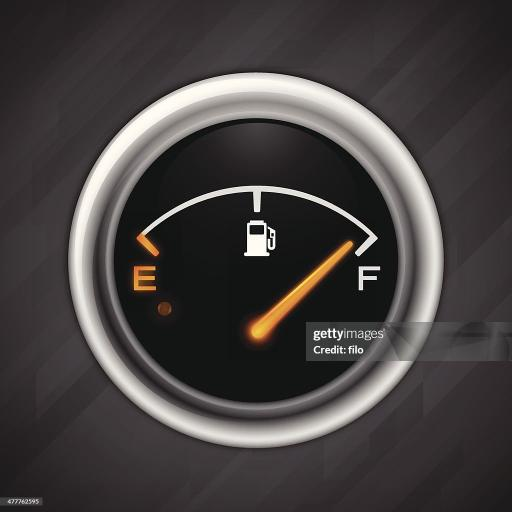empty: (128, 260, 161, 298)
fuel_icon: (241, 217, 275, 260)
full: (357, 264, 380, 289)
guage_area: (92, 133, 393, 398)
needle_center: (249, 307, 279, 345)
needle_tip: (332, 237, 354, 265)
